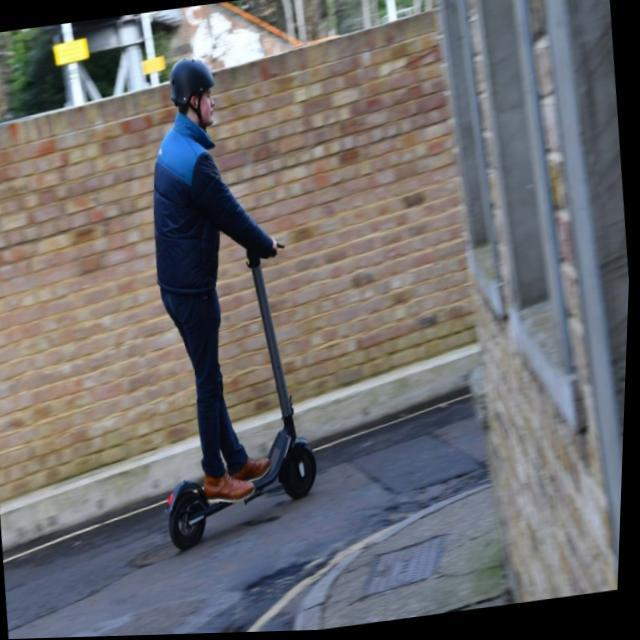Helmet: (160, 48, 226, 140)
